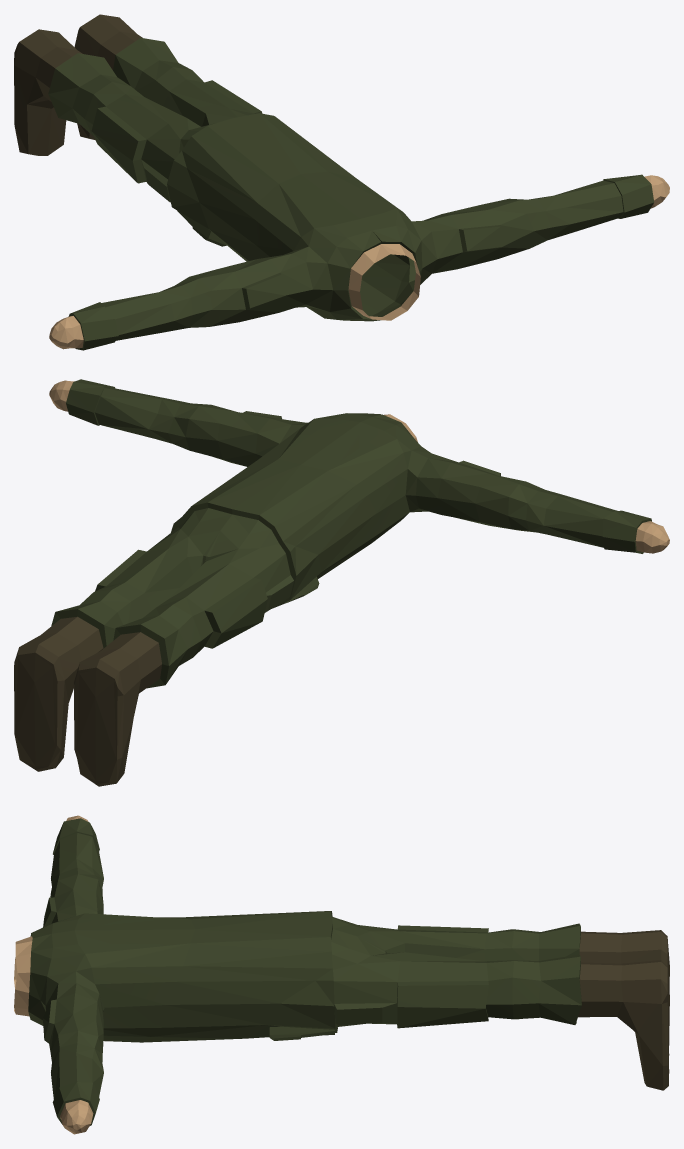
The model's file is MilitaryClothes.glb.
The picture shows the model from 3 angles, top to bottom: view 1: azimuth 30°, elevation 25°; view 2: azimuth 150°, elevation 25°; view 3: azimuth 270°, elevation 25°; orthographic projection.
Visible parts, largest first — view 1: MilitaryClothes; view 2: MilitaryClothes; view 3: MilitaryClothes.
Boxes of the visible parts, left/top/right/bottom form: MilitaryClothes: left=14, top=14, right=669, bottom=350; MilitaryClothes: left=14, top=379, right=669, bottom=786; MilitaryClothes: left=14, top=815, right=669, bottom=1134.
Size of the model in its own units: 1.21 by 0.2817 by 1.11.
1 material, 1 textured.
